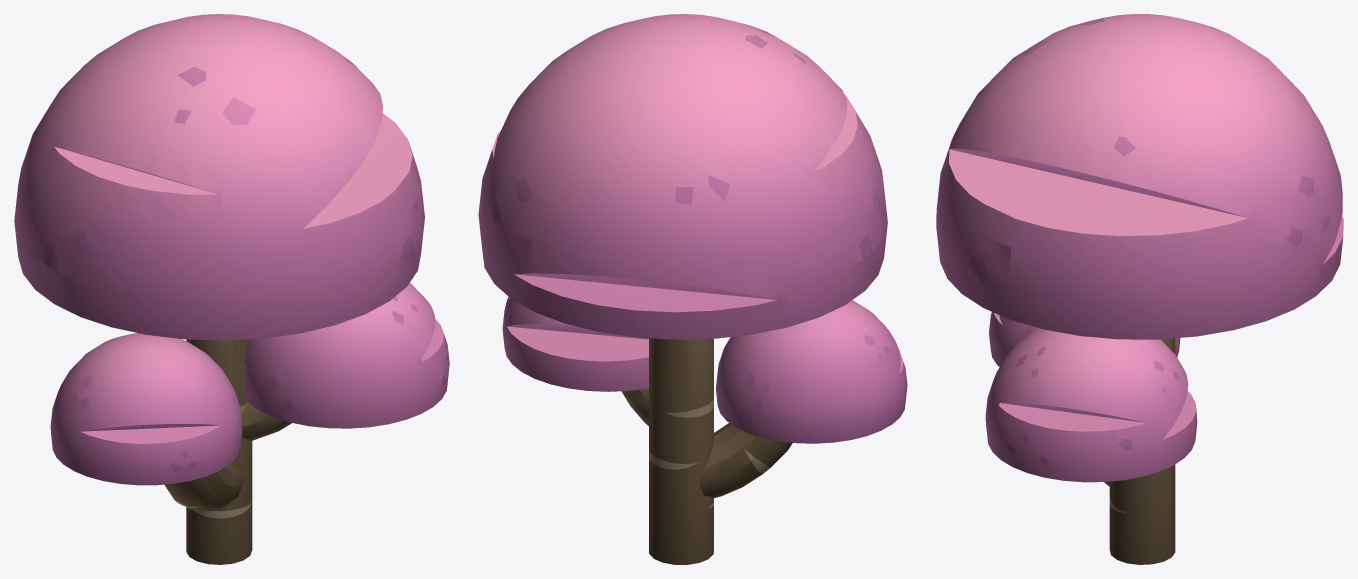
Rendered from garden_tree_pink.glb.
3 renders of one model, left to right at view 1: azimuth 30°, elevation 25°; view 2: azimuth 150°, elevation 25°; view 3: azimuth 270°, elevation 25°, orthographic.
Parts seen in each view (by area): view 1: garden_tree_pink; view 2: garden_tree_pink; view 3: garden_tree_pink.
Boxes of the visible parts, x1,y1,x2,y2 form: garden_tree_pink: (14,14,449,564); garden_tree_pink: (478,14,907,564); garden_tree_pink: (936,14,1343,564).
Size of the model in its own units: 4.12 by 5.44 by 3.88.
1 material, 1 textured.
